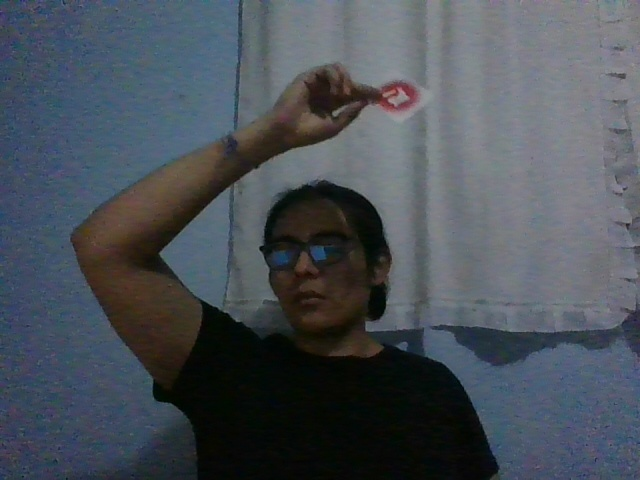tarjeta: (368, 70, 434, 124)
